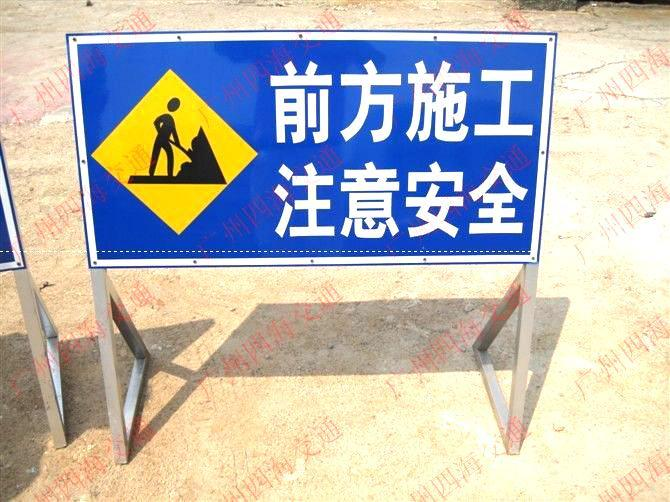sign: (67, 36, 543, 261)
